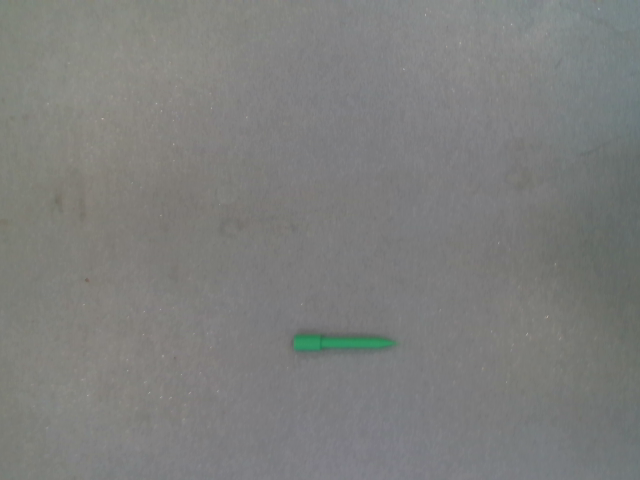Probe: (286, 328, 401, 360)
